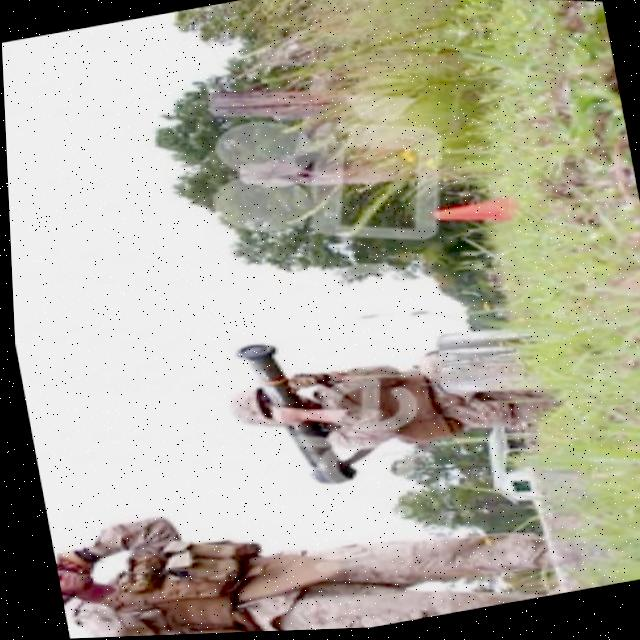rocket: (203, 324, 380, 509)
